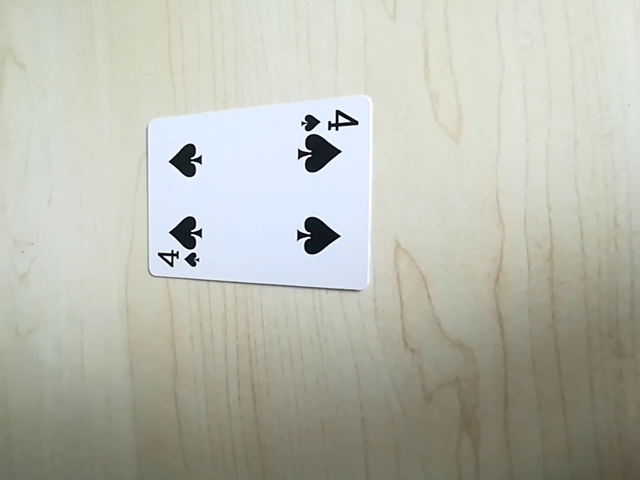ht 4: (296, 103, 360, 133), (151, 243, 204, 276)
